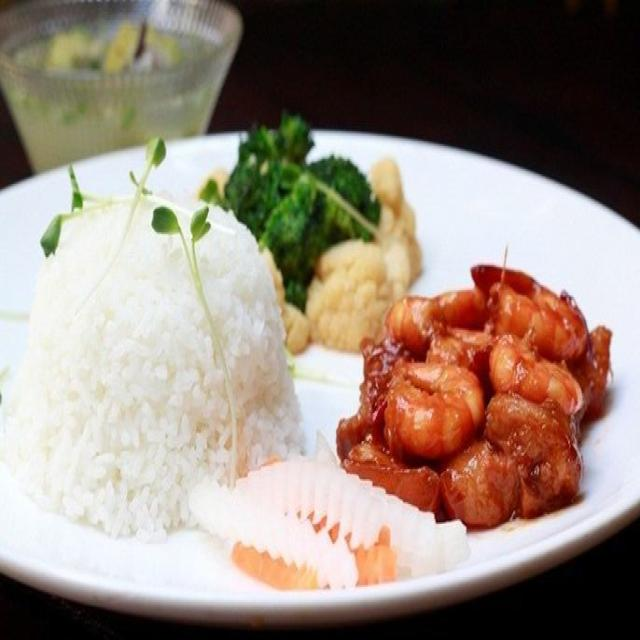com: (3, 189, 302, 537)
kho tieu: (440, 391, 580, 527)
tom: (364, 270, 587, 459)
